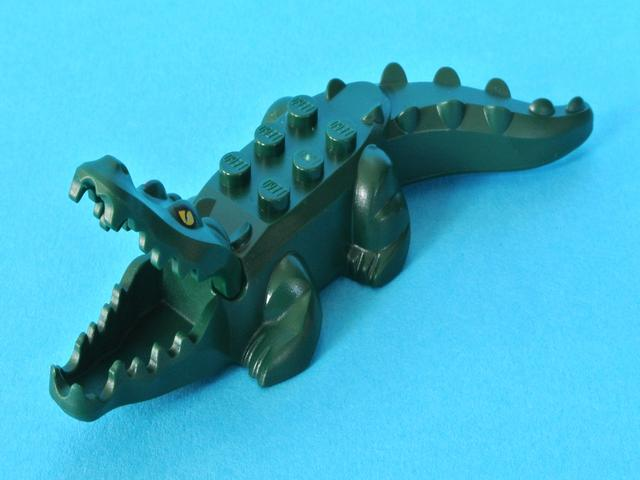crocodile: (22, 48, 608, 435)
